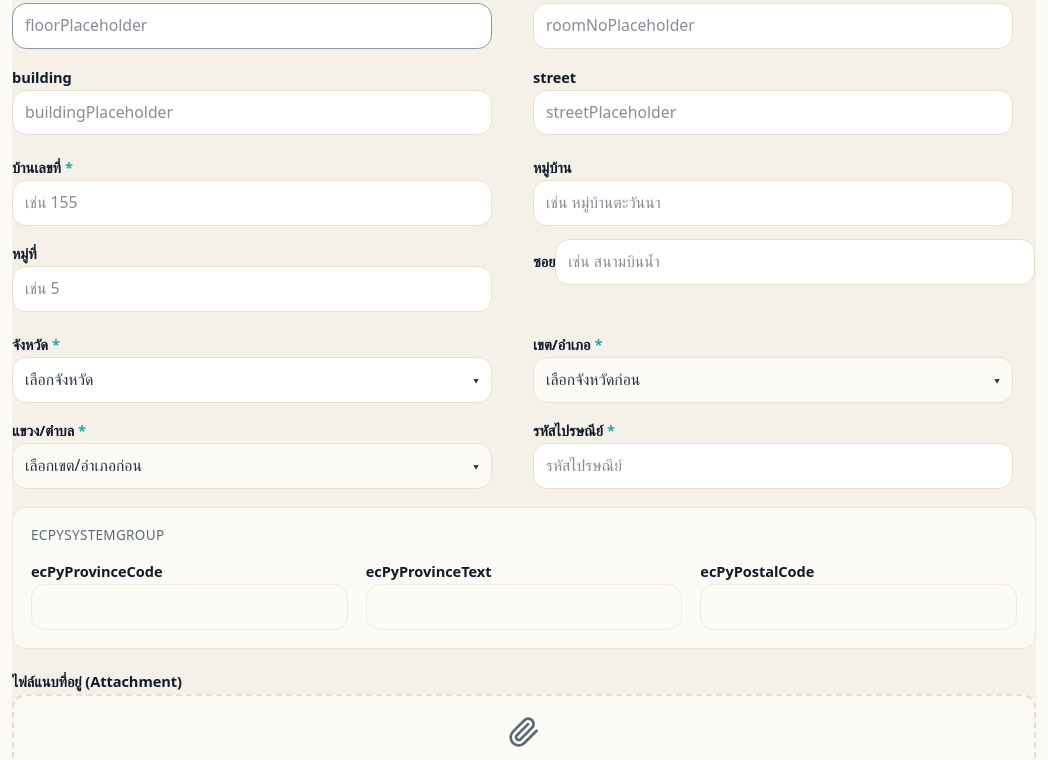
Scenario: StepContact address picklist (Phase 2) › loads province list on mount and shows province options when opened
(page scrolled)
Note: Open province dropdown
Click the button "เลือกจังหวัด ▾" at (59, 379), box [12, 357, 492, 402]
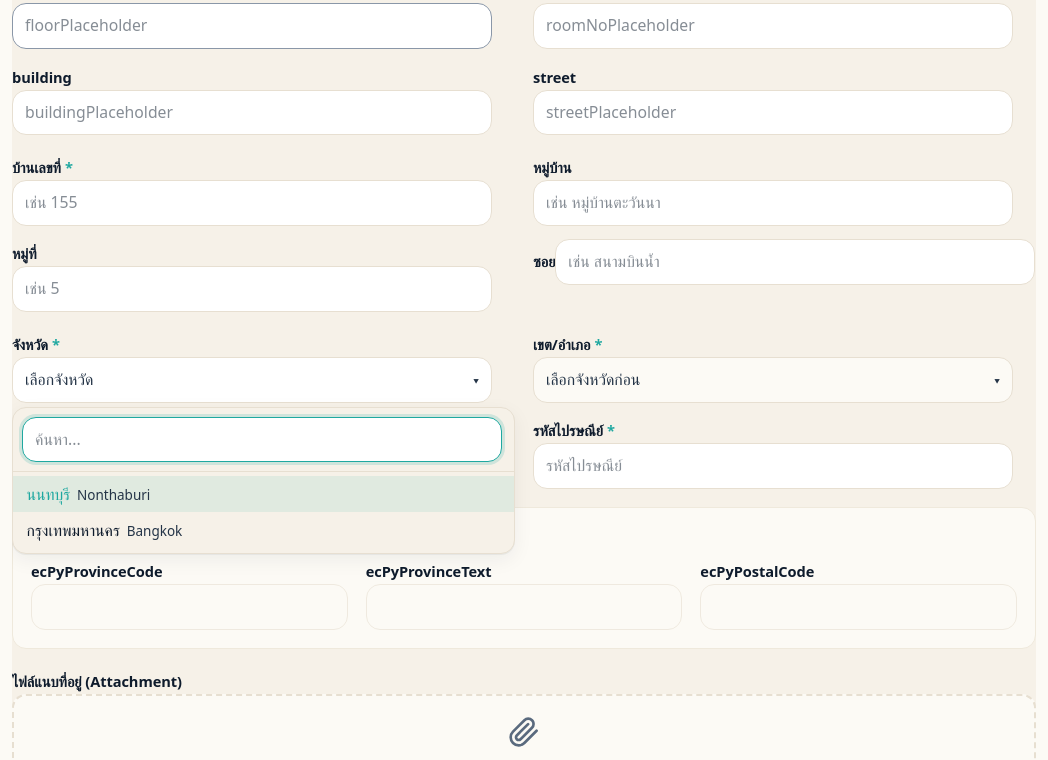
Expected: the text "นนทบุรี" is shown, [26, 483, 70, 505]
Expected: the text "กรุงเทพมหานคร" is shown, [26, 519, 120, 541]
